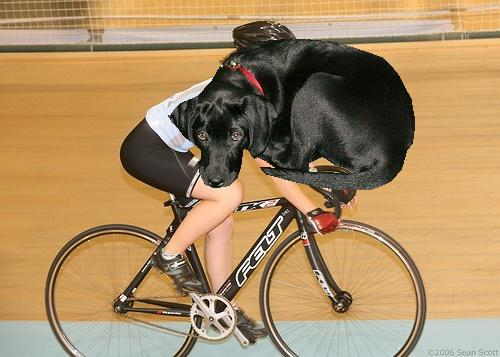tampered: (169, 40, 415, 190)
